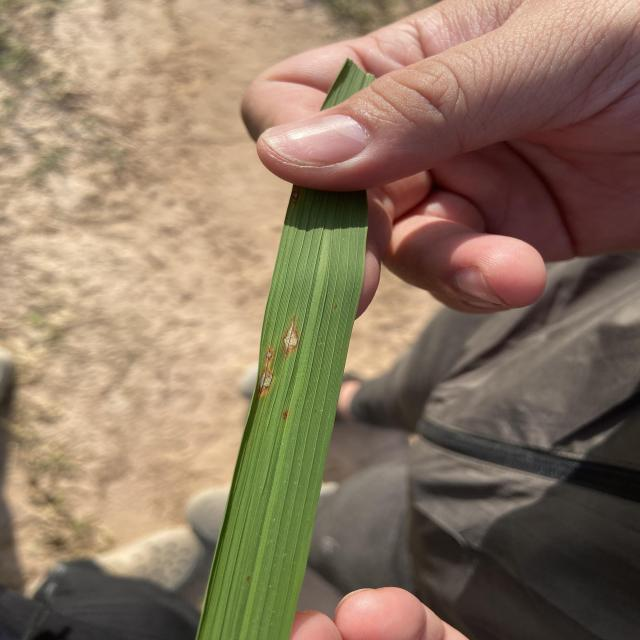Dao on: (283, 319, 298, 354), (258, 365, 273, 398), (266, 348, 274, 362), (291, 189, 298, 203)
